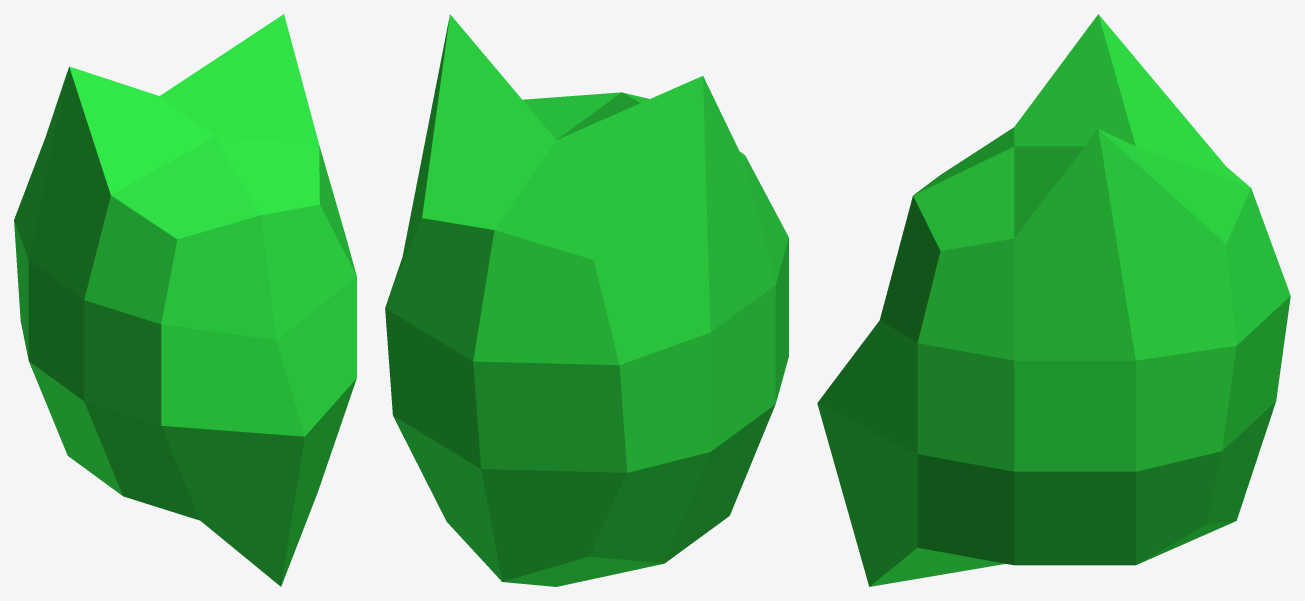
The picture shows the model from 3 angles, left to right: view 1: azimuth 30°, elevation 25°; view 2: azimuth 150°, elevation 25°; view 3: azimuth 270°, elevation 25°; orthographic projection. The views are drawn at different scales.
Visible parts, largest first — view 1: Cube; view 2: Cube; view 3: Cube.
Part boxes in pixels (left/top/right/bottom): Cube: left=14, top=14, right=356, bottom=586; Cube: left=385, top=14, right=788, bottom=586; Cube: left=817, top=14, right=1290, bottom=586.
Bounding box in the file's own units: 36.3 × 62.36 × 51.92.
